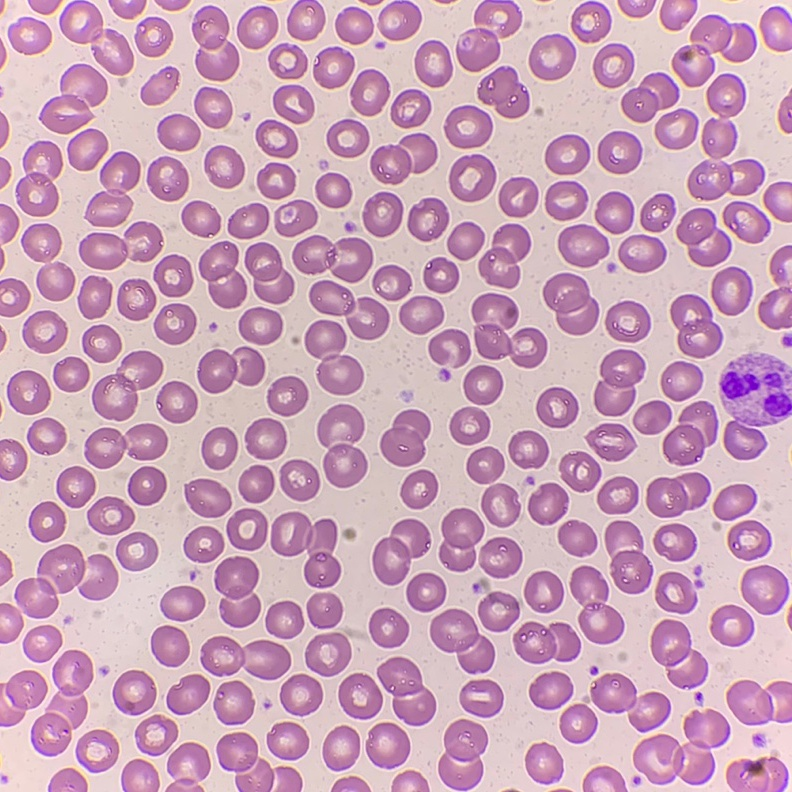RBC: (720, 353, 790, 459), (634, 711, 729, 784), (31, 650, 92, 755), (673, 15, 755, 86), (472, 293, 546, 367), (271, 512, 340, 587), (92, 351, 162, 420), (41, 64, 106, 133), (591, 674, 669, 730), (305, 320, 363, 394), (430, 609, 494, 672), (571, 566, 623, 643), (86, 152, 139, 226), (378, 657, 435, 725), (201, 637, 290, 679), (373, 519, 430, 584), (651, 620, 707, 686), (293, 236, 372, 281), (192, 6, 238, 80), (605, 521, 652, 593), (439, 720, 487, 790), (543, 273, 598, 334), (370, 133, 437, 183), (663, 401, 716, 464), (17, 141, 61, 215), (594, 350, 644, 415), (479, 224, 530, 287), (215, 557, 260, 627), (671, 295, 721, 357), (199, 242, 246, 307), (677, 209, 730, 266), (688, 159, 763, 199), (198, 347, 264, 392), (245, 243, 293, 303), (727, 680, 791, 724), (647, 473, 709, 517), (381, 410, 429, 466), (440, 509, 483, 571), (514, 622, 579, 663), (622, 73, 677, 121), (478, 66, 529, 117), (0, 671, 46, 725), (741, 566, 787, 614), (449, 155, 495, 201), (39, 545, 84, 592), (558, 225, 608, 266), (529, 35, 575, 79), (727, 758, 785, 791), (366, 723, 409, 767), (305, 633, 350, 675), (339, 673, 381, 718), (445, 106, 491, 147), (456, 28, 499, 71), (113, 670, 155, 714), (712, 267, 751, 314), (598, 131, 641, 173), (7, 371, 49, 414), (324, 444, 366, 487), (724, 202, 769, 242), (317, 404, 363, 443), (23, 311, 66, 352), (79, 233, 127, 269), (76, 730, 118, 771), (593, 44, 633, 87), (147, 157, 187, 200), (606, 301, 649, 341), (545, 135, 589, 174), (363, 192, 402, 236), (185, 479, 230, 517), (619, 235, 665, 272), (237, 6, 277, 48), (408, 198, 448, 240), (479, 537, 521, 577), (711, 605, 753, 645), (214, 681, 253, 724), (351, 70, 388, 115), (88, 497, 133, 534), (588, 424, 634, 460), (474, 1, 521, 36), (348, 298, 388, 339), (245, 418, 285, 459), (655, 572, 696, 612), (655, 109, 697, 148), (728, 520, 770, 559), (15, 578, 57, 617), (167, 675, 209, 714), (280, 675, 322, 714), (399, 296, 443, 333), (415, 41, 451, 86), (313, 47, 353, 87), (86, 428, 126, 468), (227, 509, 267, 549), (68, 129, 107, 170), (478, 592, 519, 631), (707, 74, 744, 117), (81, 555, 117, 599), (155, 304, 195, 343), (157, 382, 196, 422), (537, 388, 577, 427), (560, 452, 600, 491), (280, 460, 319, 500), (379, 1, 420, 39), (60, 4, 101, 42), (327, 119, 368, 157), (205, 146, 243, 187), (595, 192, 633, 233), (154, 255, 192, 296), (661, 362, 702, 400), (529, 483, 567, 524), (116, 532, 157, 570), (482, 484, 519, 526), (239, 308, 282, 344), (529, 672, 572, 708), (323, 726, 359, 769), (310, 280, 354, 315), (268, 376, 307, 415), (546, 181, 586, 219), (117, 279, 155, 319), (136, 716, 176, 754), (217, 733, 257, 771), (256, 120, 297, 157), (525, 571, 562, 612), (267, 722, 308, 759), (460, 680, 502, 716), (464, 365, 502, 404), (369, 609, 408, 647), (95, 34, 132, 74), (273, 85, 313, 122), (194, 87, 231, 127), (57, 467, 94, 507), (654, 524, 694, 561), (151, 626, 188, 666), (158, 114, 199, 150), (275, 200, 316, 236), (714, 484, 755, 520), (202, 427, 237, 469), (161, 586, 204, 620), (572, 3, 610, 41), (499, 178, 537, 216), (407, 573, 445, 611), (287, 0, 324, 39), (135, 17, 172, 56), (391, 90, 430, 127), (450, 407, 489, 444), (9, 18, 50, 53), (22, 224, 60, 261), (128, 467, 165, 505), (525, 744, 562, 782), (598, 477, 637, 513), (184, 526, 223, 562), (228, 203, 268, 238), (167, 743, 209, 776), (141, 67, 178, 104), (447, 222, 484, 259), (37, 263, 74, 300), (83, 325, 120, 362), (509, 431, 547, 467), (401, 470, 437, 508), (23, 625, 61, 661), (560, 704, 596, 742), (29, 502, 64, 541), (429, 329, 469, 363), (78, 276, 111, 317), (335, 7, 372, 43), (28, 418, 65, 454), (266, 601, 302, 638), (257, 163, 295, 198), (182, 201, 220, 236), (126, 222, 161, 260), (129, 424, 167, 459), (558, 520, 596, 555), (467, 447, 503, 483), (373, 265, 410, 300), (239, 465, 274, 502), (702, 119, 735, 158), (269, 44, 306, 78), (761, 9, 791, 50), (640, 194, 673, 231), (424, 257, 458, 292), (53, 357, 88, 391), (634, 401, 670, 434), (759, 291, 791, 328), (316, 173, 350, 207), (307, 593, 341, 627), (122, 760, 158, 791), (236, 761, 273, 791), (0, 279, 29, 316), (764, 182, 791, 221), (660, 0, 696, 29), (0, 439, 26, 479), (0, 604, 22, 642), (49, 769, 86, 791), (592, 767, 625, 791), (770, 245, 791, 282), (109, 0, 145, 18), (0, 204, 18, 239), (618, 0, 654, 16), (277, 767, 301, 791), (332, 777, 368, 791), (403, 771, 428, 791), (778, 96, 791, 132), (29, 0, 58, 13), (0, 554, 11, 583), (158, 0, 187, 9), (0, 158, 9, 185), (0, 115, 8, 143), (753, 733, 764, 744), (583, 779, 592, 791), (780, 287, 789, 295), (440, 370, 448, 379), (345, 529, 353, 538), (0, 47, 5, 61), (167, 786, 181, 791), (0, 331, 5, 344), (479, 579, 487, 587), (367, 0, 376, 4), (193, 787, 201, 791)
